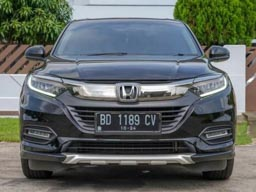plat: (97, 113, 159, 125)
